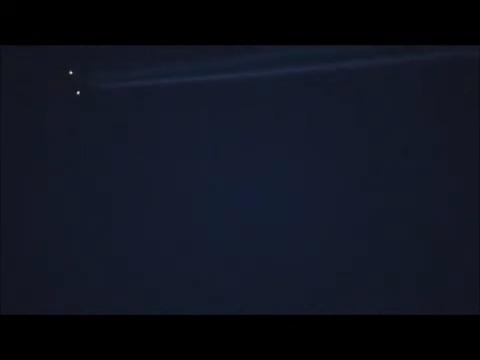Plane: (56, 44, 321, 117)
